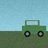vehicle: (22, 20, 46, 37)
